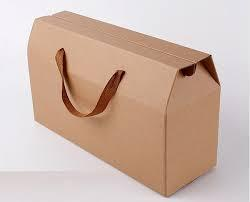box: (26, 10, 221, 198)
